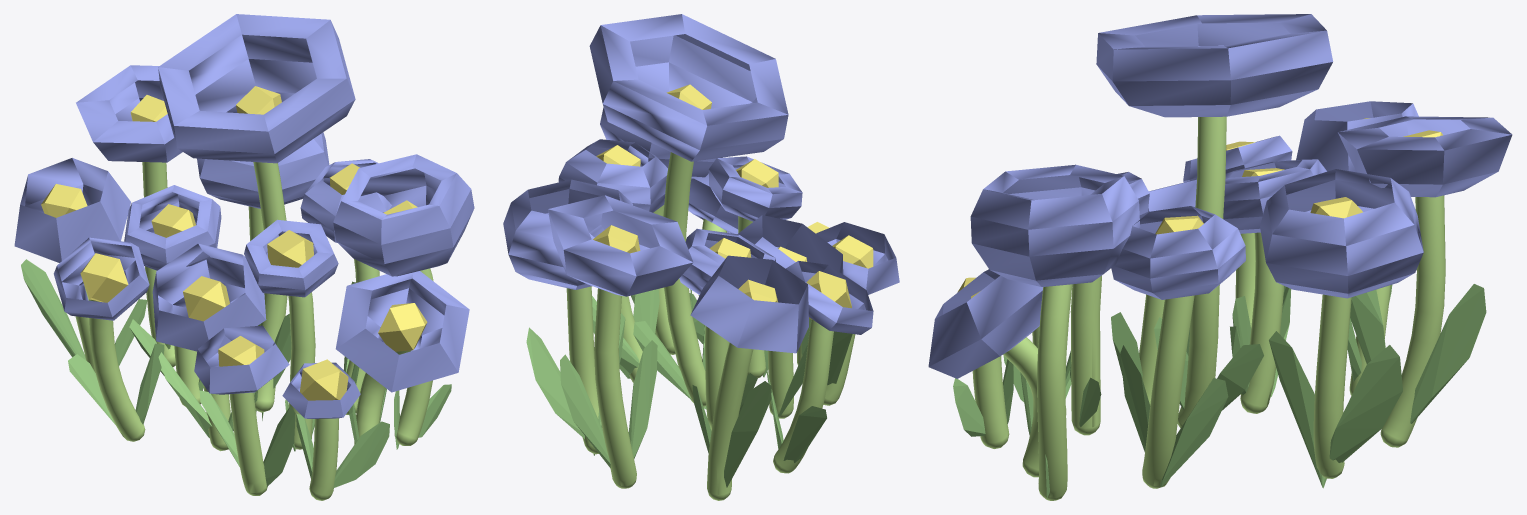
File: FlowerGroup.fbx
3 views of the same model, side by side, from view 1: azimuth 30°, elevation 25°; view 2: azimuth 150°, elevation 25°; view 3: azimuth 270°, elevation 25° (orthographic). The views are drawn at different scales.
Visible parts, largest first — view 1: flowergroup; view 2: flowergroup; view 3: flowergroup.
Part boxes in pixels (x1,y1,x2,y2): flowergroup: (14,14,474,500); flowergroup: (503,14,899,500); flowergroup: (928,14,1512,500).
Size of the model in its own units: 239 by 270 by 307.
